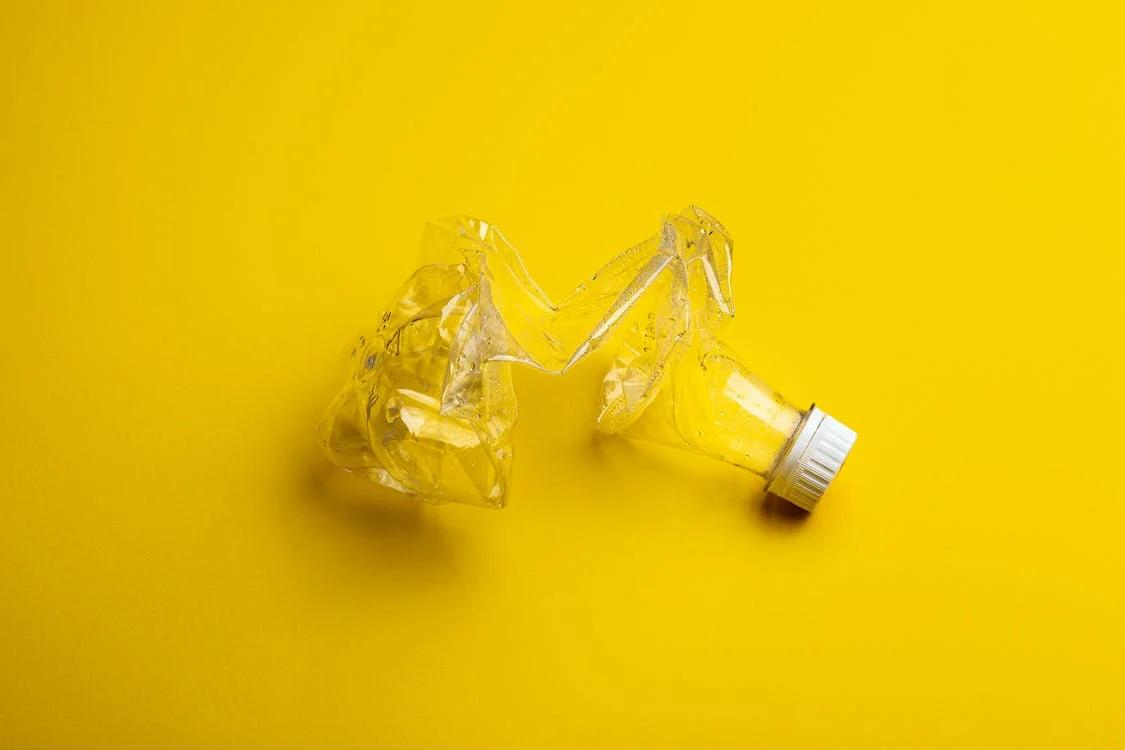Plastic: (309, 194, 863, 523)
